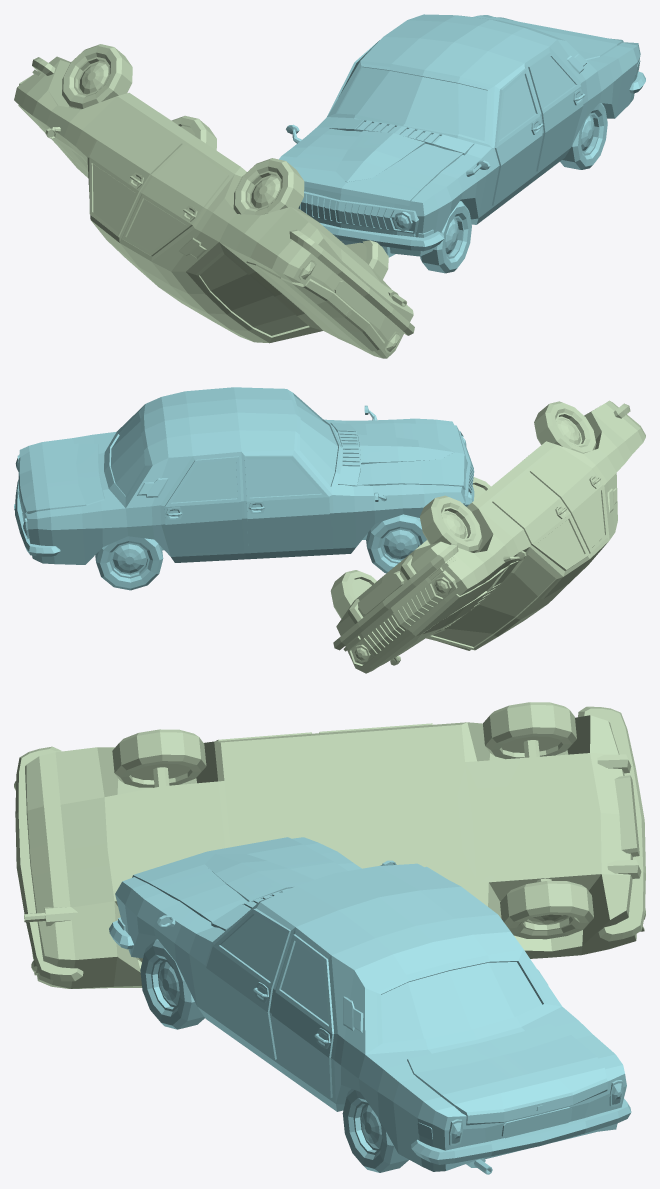
The model's file is car-static-1.gltf.
3 views of the same model, one above another, from view 1: azimuth 30°, elevation 25°; view 2: azimuth 150°, elevation 25°; view 3: azimuth 270°, elevation 25° (orthographic). The views are drawn at different scales.
Parts seen in each view (by area): view 1: wolga_cars_blue.004, wolga_cars_blue.003; view 2: wolga_cars_blue.004, wolga_cars_blue.003; view 3: wolga_cars_blue.003, wolga_cars_blue.004.
Part boxes in pixels (bbox=[...]): wolga_cars_blue.004: bbox=[279, 14, 645, 273]; wolga_cars_blue.003: bbox=[14, 44, 414, 358]; wolga_cars_blue.004: bbox=[14, 387, 474, 590]; wolga_cars_blue.003: bbox=[330, 400, 645, 673]; wolga_cars_blue.003: bbox=[14, 702, 645, 988]; wolga_cars_blue.004: bbox=[109, 837, 631, 1174].
Size of the model in its own units: 0.4089 by 0.1455 by 0.3104.
